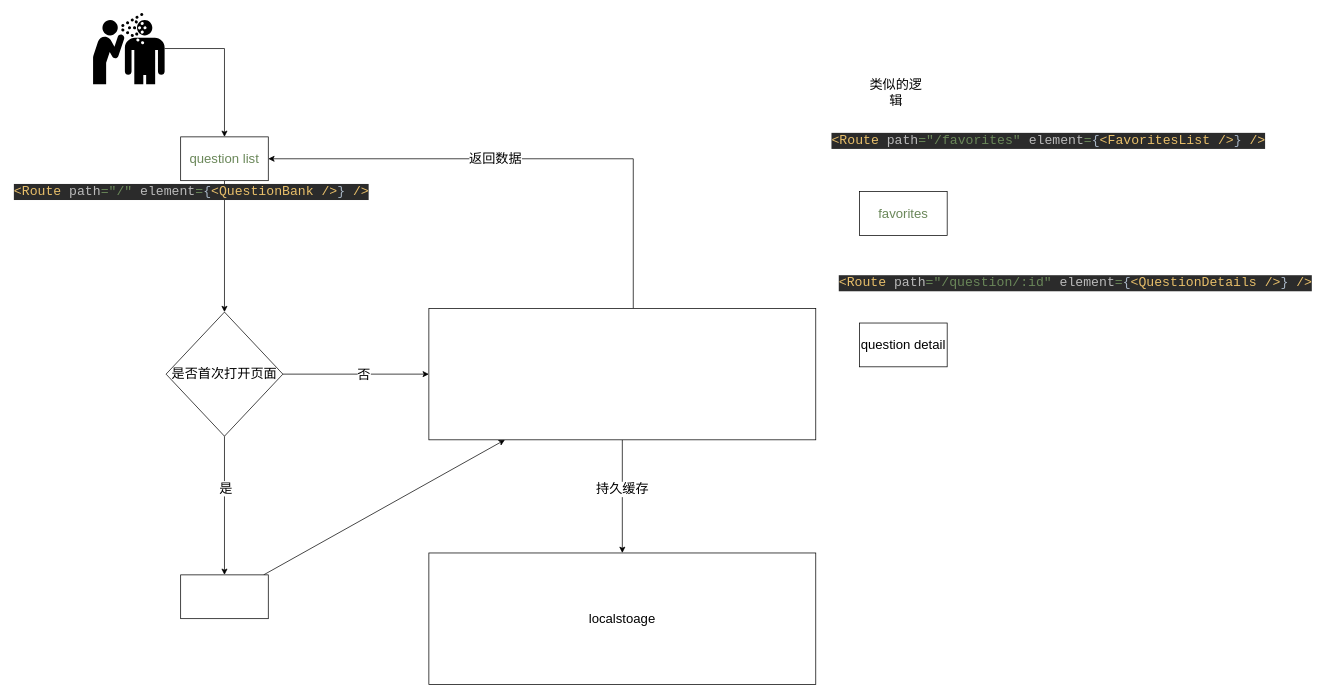
Some shapes in this 1324 by 697 pixel diagram are drawn without their labels. Here are the shapes that lost their labels. From the top down, the centre of each, then its label:
At (622,374): "store".
At (224,596): "API fetch".
